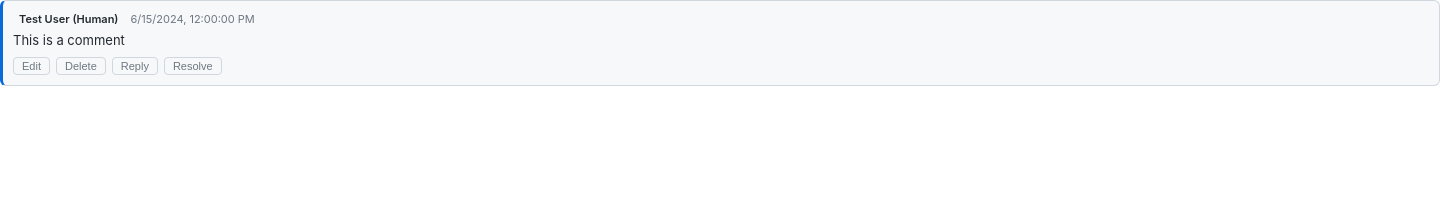
Test: CommentThread - Reply action › shows reply textarea when Reply button is clicked
Step 1. Click the button "Reply" → click(135, 66), box [112,57,158,75]
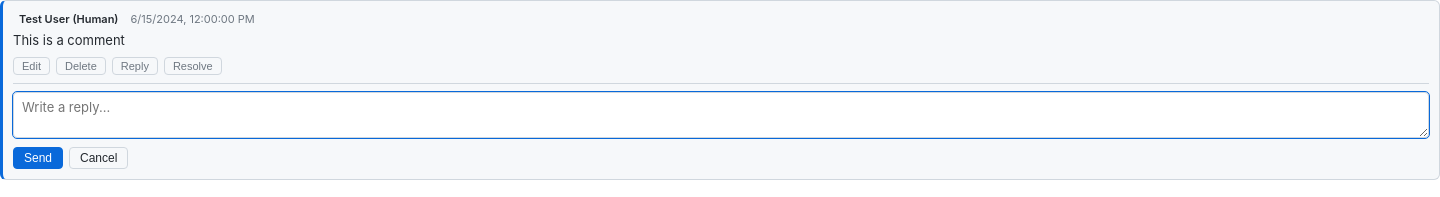
Result: the text box labelled "Write a reply..." is shown at [13,92,1429,138]
Result: the button "Send" is shown at [13,147,63,169]
Result: the button "Cancel" is shown at [69,147,128,169]
